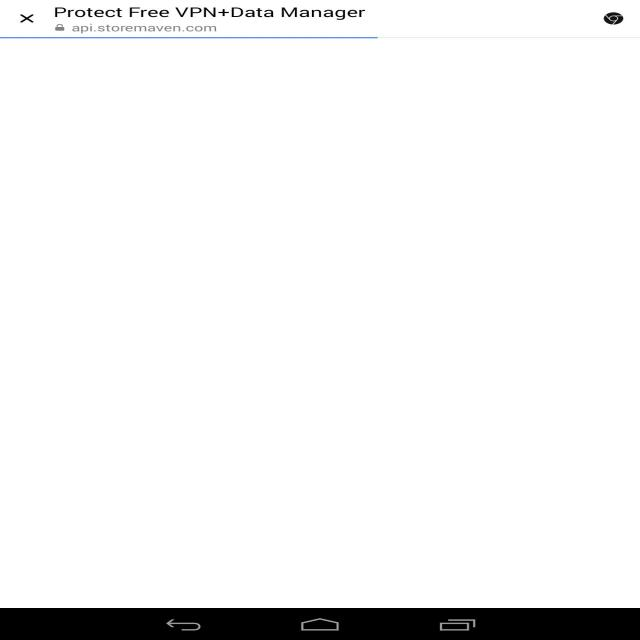button: (597, 10, 631, 31), (12, 10, 44, 29)
heading: (48, 2, 373, 23)
text: (50, 21, 229, 36)
